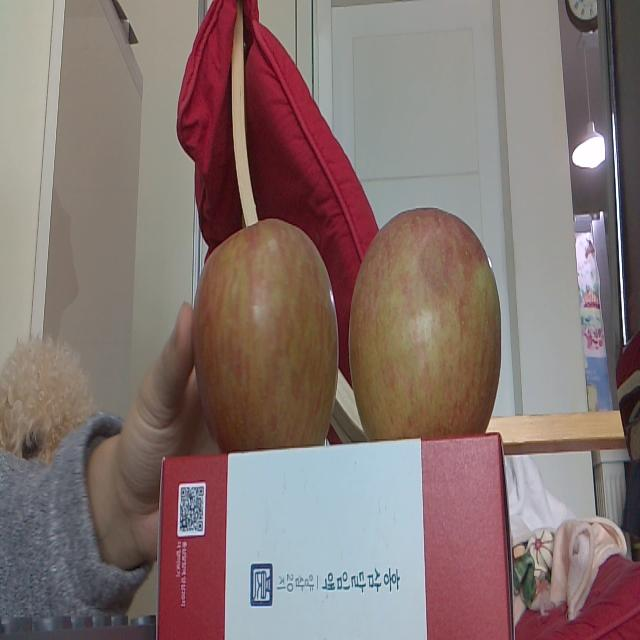apple: (348, 206, 502, 434), (194, 220, 339, 448)
